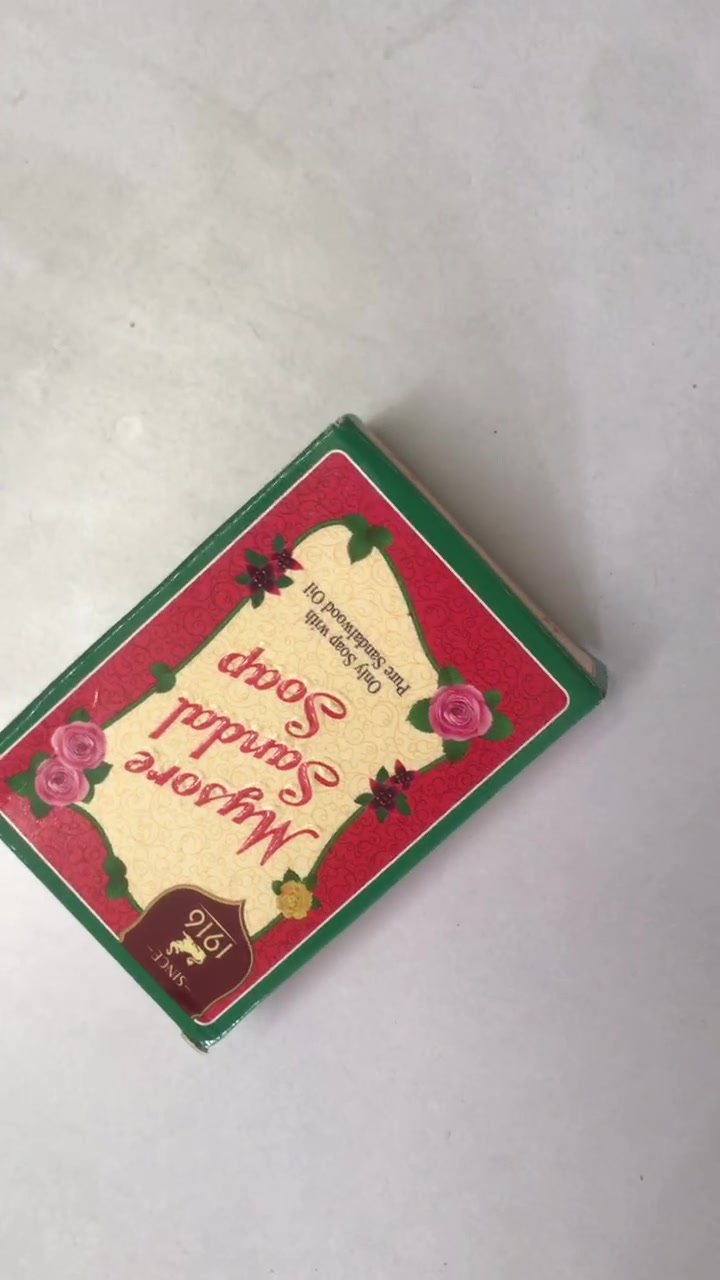mysore sandal soap: (2, 406, 601, 1055)
